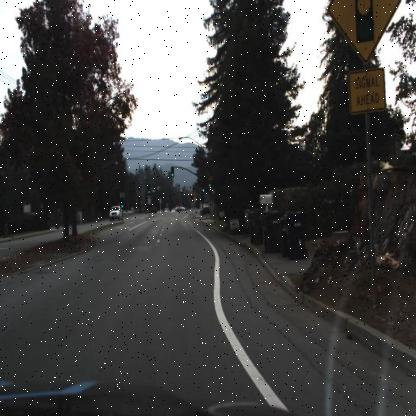car: (108, 202, 122, 224), (108, 203, 122, 224)
trafficLight-GreenLeft: (120, 197, 124, 212)
